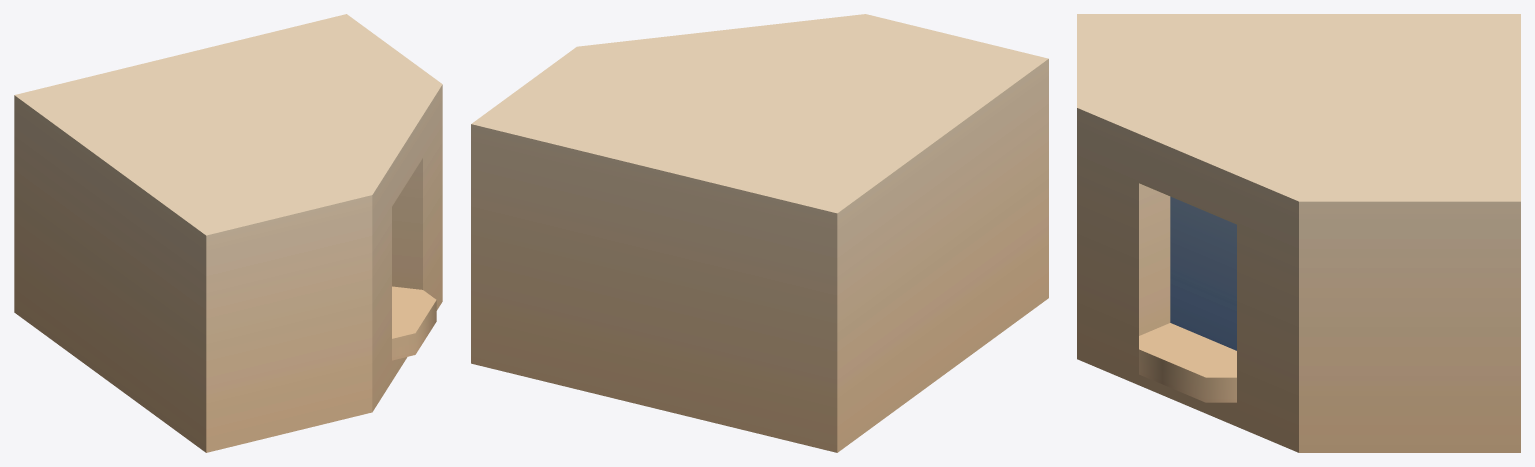
Rendered from kenney-modular-buildings-building-corner-window-sill.glb.
3 renders of one model, left to right at view 1: azimuth 30°, elevation 25°; view 2: azimuth 150°, elevation 25°; view 3: azimuth 270°, elevation 25°, orthographic. The views are drawn at different scales.
Visible parts, largest first — view 1: building-corner-window-sill; view 2: building-corner-window-sill; view 3: building-corner-window-sill.
Boxes of the visible parts, box(x1,y1,x2,y2) form: building-corner-window-sill: box(14, 14, 442, 452); building-corner-window-sill: box(471, 14, 1048, 452); building-corner-window-sill: box(1077, 14, 1520, 452).
Size of the model in its own units: 1 by 0.625 by 1.
Materials: 1 (1 with a texture image).
